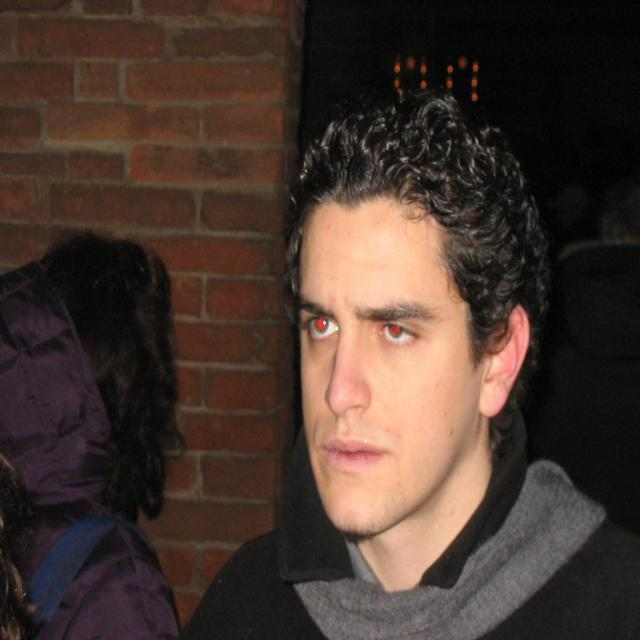closed-mouth: (315, 423, 395, 480)
